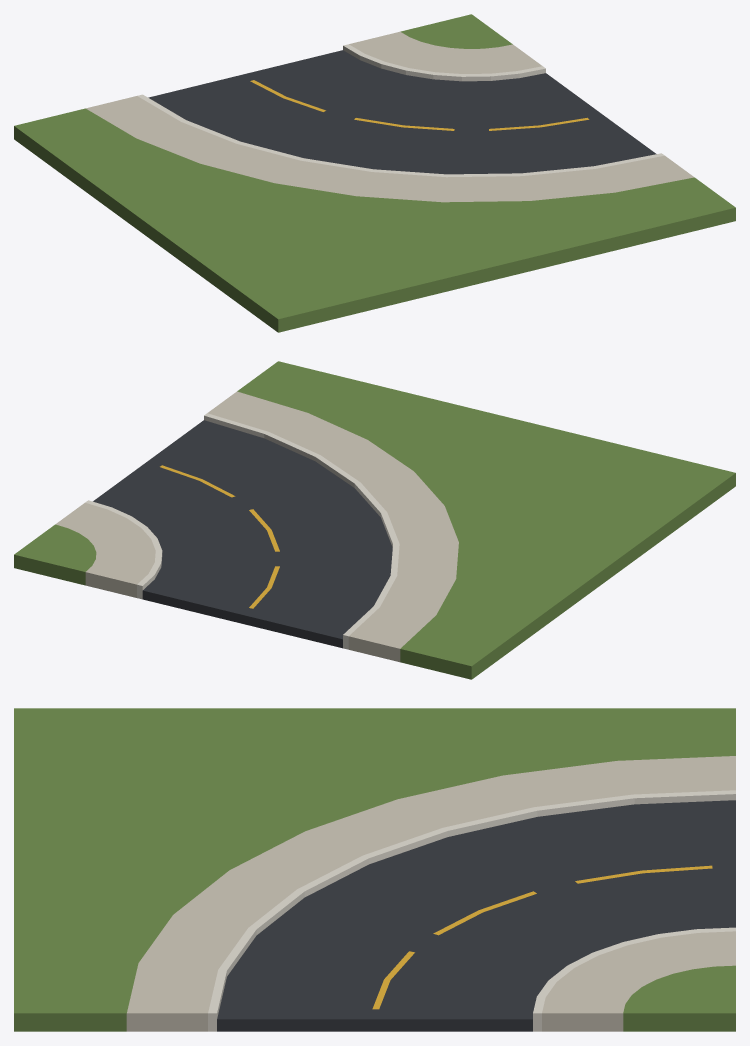
File: Road_2Lane_Sidewalk_Curve90_L.glb
The picture shows the model from 3 angles, top to bottom: view 1: azimuth 30°, elevation 25°; view 2: azimuth 150°, elevation 25°; view 3: azimuth 270°, elevation 25°; orthographic projection. The views are drawn at different scales.
Parts seen in each view (by area): view 1: Road_2Lane_Sidewalk_Curve90_L_Grass-edge, Road_2Lane_Sidewalk_Curve90_L_Asphalt, Road_2Lane_Sidewalk_Curve90_L_Sidewalk, Road_2Lane_Sidewalk_Curve90_L_Curb, Road_2Lane_Sidewalk_Curve90_L_PaintYellow; view 2: Road_2Lane_Sidewalk_Curve90_L_Grass-edge, Road_2Lane_Sidewalk_Curve90_L_Asphalt, Road_2Lane_Sidewalk_Curve90_L_Sidewalk, Road_2Lane_Sidewalk_Curve90_L_Curb, Road_2Lane_Sidewalk_Curve90_L_PaintYellow; view 3: Road_2Lane_Sidewalk_Curve90_L_Grass-edge, Road_2Lane_Sidewalk_Curve90_L_Asphalt, Road_2Lane_Sidewalk_Curve90_L_Sidewalk, Road_2Lane_Sidewalk_Curve90_L_Curb, Road_2Lane_Sidewalk_Curve90_L_PaintYellow.
Part boxes in pixels (<box>): Road_2Lane_Sidewalk_Curve90_L_Grass-edge: <box>14,14,735,332</box>; Road_2Lane_Sidewalk_Curve90_L_Asphalt: <box>148,50,656,174</box>; Road_2Lane_Sidewalk_Curve90_L_Sidewalk: <box>86,31,694,202</box>; Road_2Lane_Sidewalk_Curve90_L_Curb: <box>137,44,664,177</box>; Road_2Lane_Sidewalk_Curve90_L_PaintYellow: <box>250,80,589,130</box>; Road_2Lane_Sidewalk_Curve90_L_Grass-edge: <box>14,361,735,679</box>; Road_2Lane_Sidewalk_Curve90_L_Asphalt: <box>93,420,392,648</box>; Road_2Lane_Sidewalk_Curve90_L_Sidewalk: <box>55,391,458,662</box>; Road_2Lane_Sidewalk_Curve90_L_Curb: <box>85,413,399,649</box>; Road_2Lane_Sidewalk_Curve90_L_PaintYellow: <box>160,465,279,608</box>; Road_2Lane_Sidewalk_Curve90_L_Grass-edge: <box>14,708,735,1031</box>; Road_2Lane_Sidewalk_Curve90_L_Asphalt: <box>217,800,735,1031</box>; Road_2Lane_Sidewalk_Curve90_L_Sidewalk: <box>126,756,735,1031</box>; Road_2Lane_Sidewalk_Curve90_L_Curb: <box>208,790,735,1031</box>; Road_2Lane_Sidewalk_Curve90_L_PaintYellow: <box>372,865,712,1009</box>.
Bounding box in the file's own units: 16 × 0.45 × 16.
